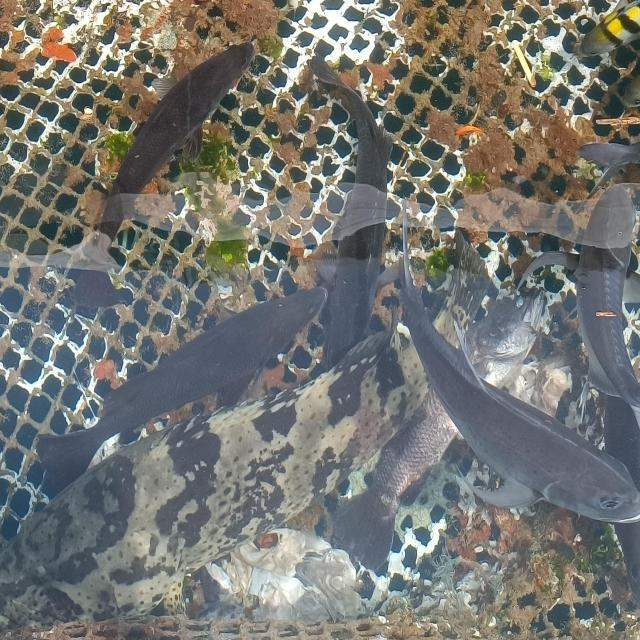ikan: (393, 202, 639, 526), (34, 284, 329, 499), (48, 36, 258, 316), (454, 182, 639, 428), (576, 0, 639, 61)
